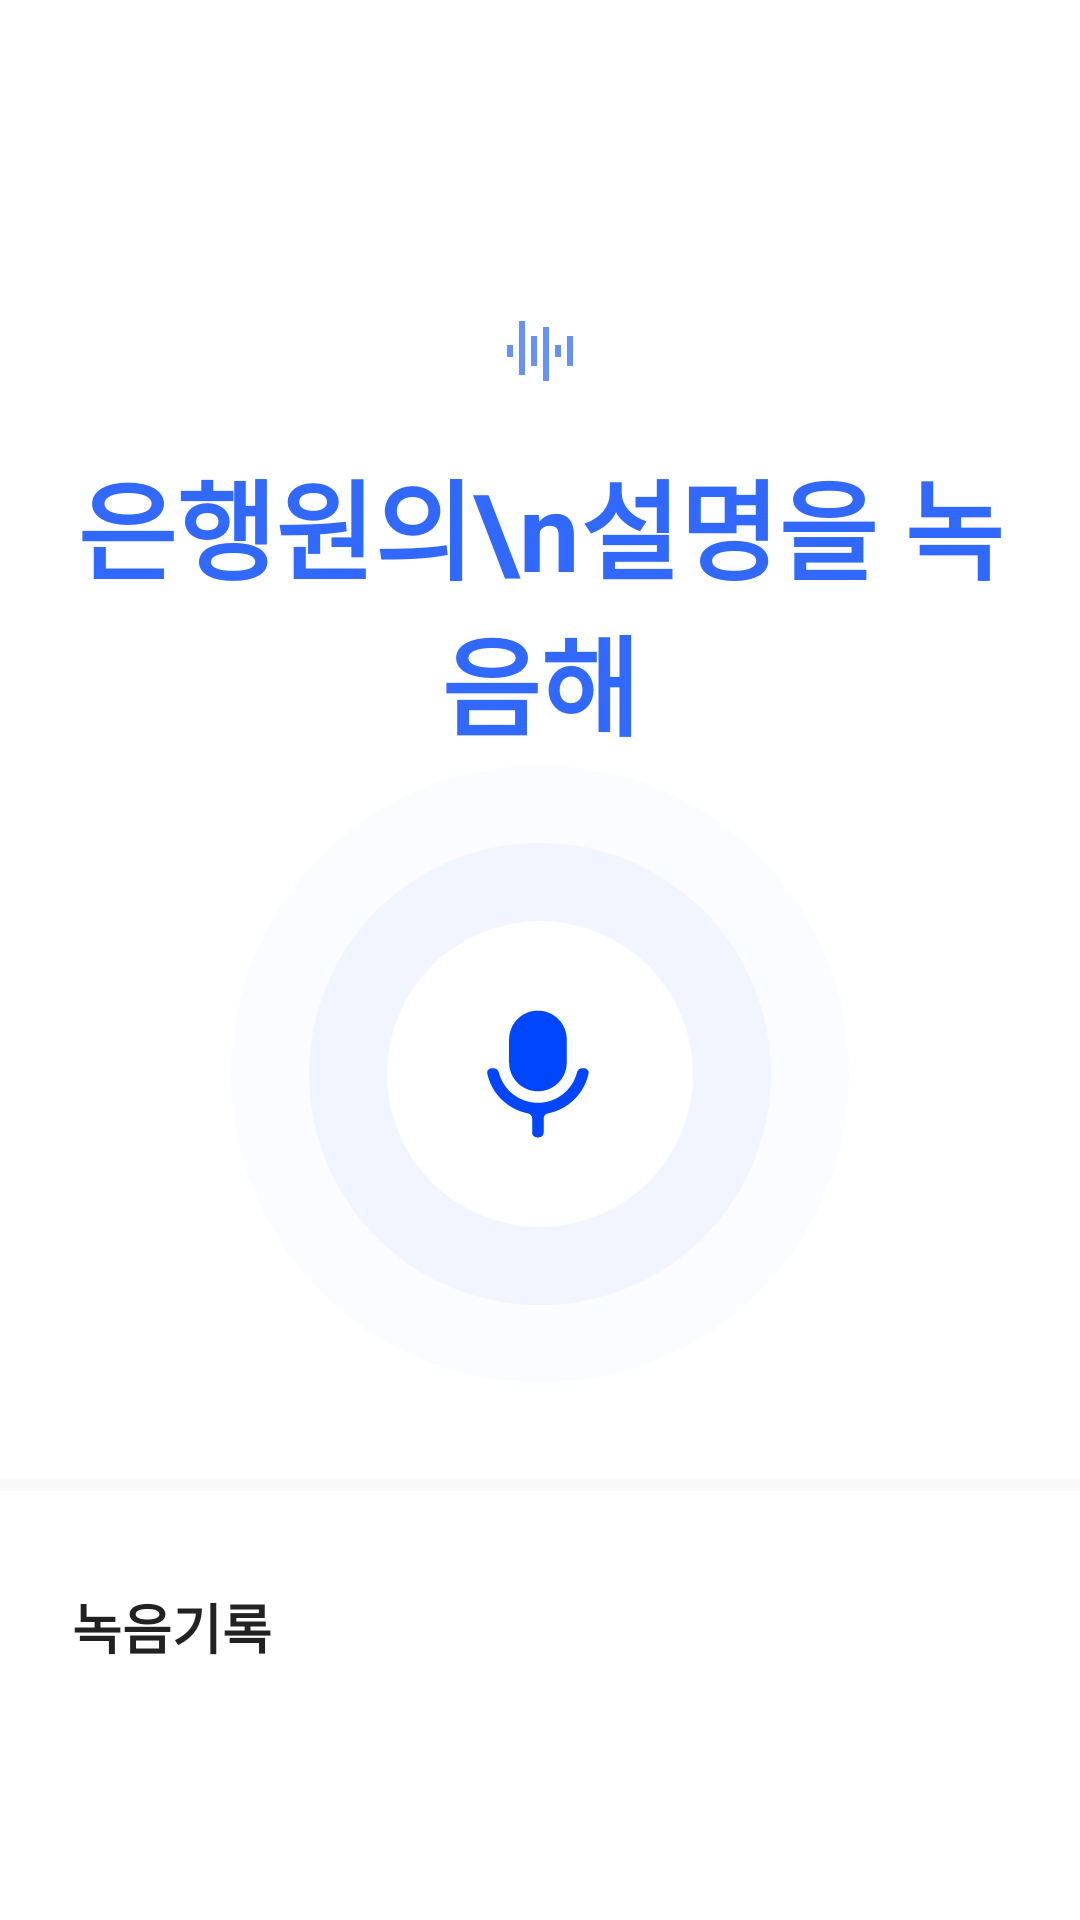

Screen size 1080px x 1920px. Icon name, then its center in pixels as point (x, y):
record mic: point (538, 1074)
